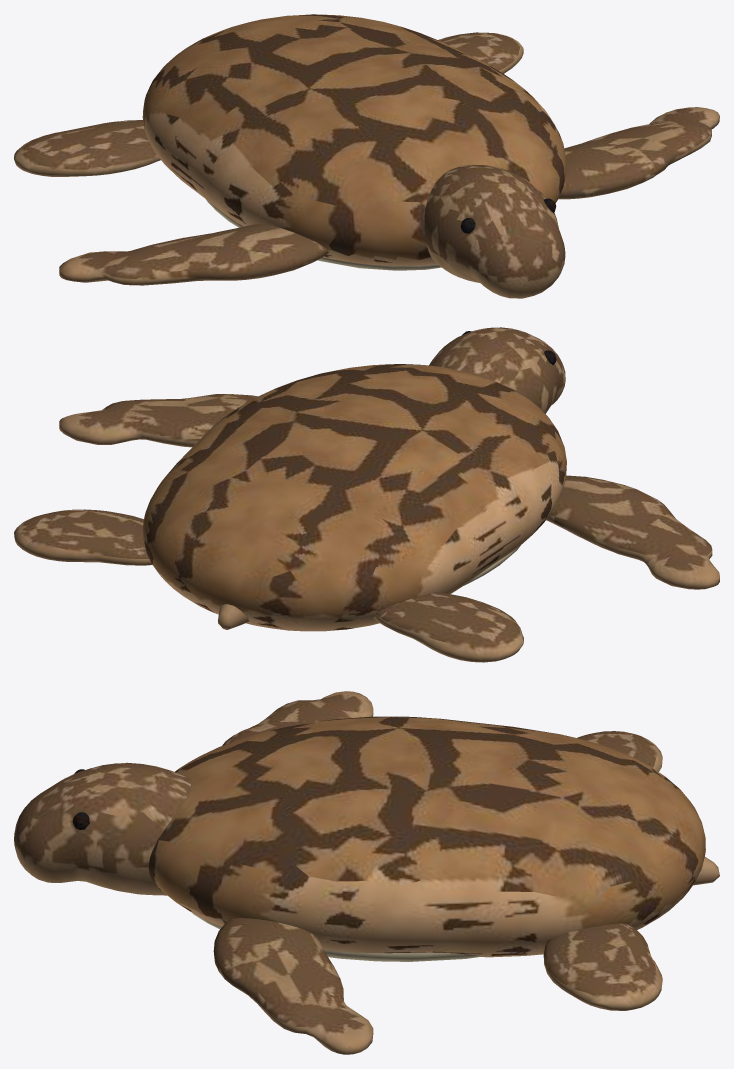
File: turtle_hatchling.glb
The picture shows the model from 3 angles, top to bottom: view 1: azimuth 30°, elevation 25°; view 2: azimuth 150°, elevation 25°; view 3: azimuth 270°, elevation 25°; orthographic projection. The views are drawn at different scales.
Visible parts, largest first — view 1: turtle_hatchling, head, flip0, flip1, flip2, flip3; view 2: turtle_hatchling, flip0, flip2, flip1, head, flip3; view 3: turtle_hatchling, head, flip1, flip3, flip0, flip2.
Part boxes in pixels (x1,y1,x2,y2): turtle_hatchling: (142, 14, 566, 270); head: (424, 165, 565, 298); flip0: (59, 223, 328, 285); flip1: (558, 107, 719, 199); flip2: (14, 120, 160, 176); flip3: (438, 32, 523, 73); turtle_hatchling: (142, 364, 566, 631); flip0: (546, 475, 719, 589); flip2: (374, 592, 523, 662); flip1: (59, 394, 257, 447); head: (429, 327, 565, 413); flip3: (14, 509, 152, 565); turtle_hatchling: (148, 716, 719, 961); head: (14, 762, 190, 895); flip1: (213, 918, 373, 1054); flip3: (543, 923, 662, 1010); flip0: (222, 691, 373, 745); flip2: (577, 731, 662, 771).
Size of the model in its own units: 0.6298 by 0.1383 by 0.5267.
Materials: 1 (1 with a texture image).
